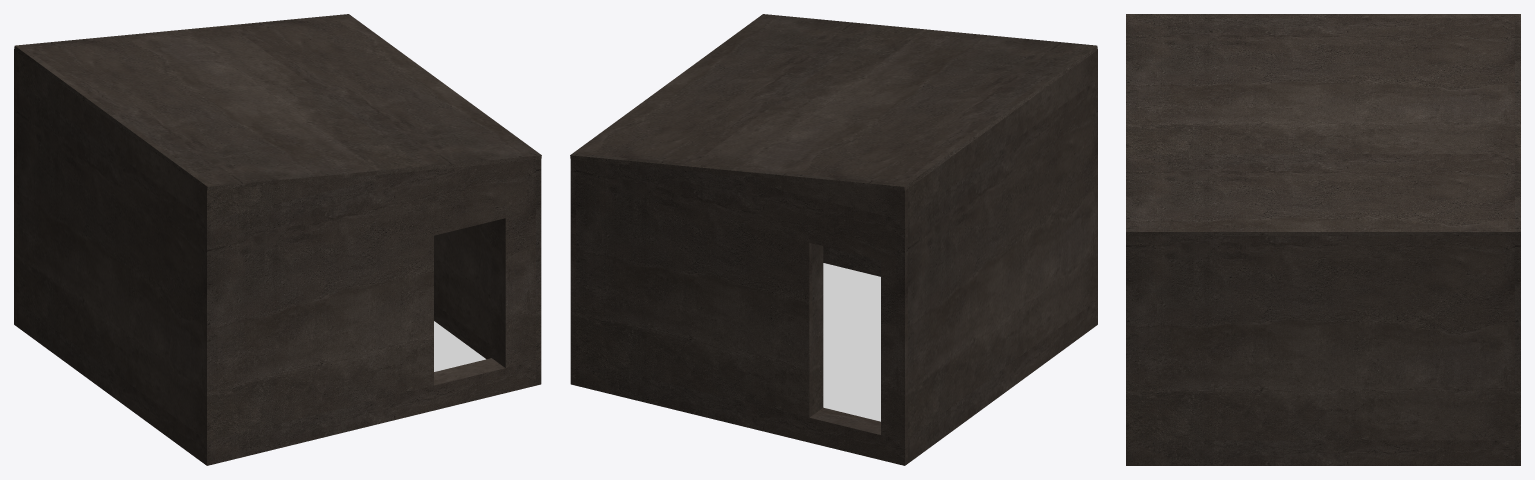
The model's file is lavacrete-200.glb.
The picture shows the model from 3 angles, left to right: view 1: azimuth 30°, elevation 25°; view 2: azimuth 150°, elevation 25°; view 3: azimuth 270°, elevation 25°; orthographic projection. The views are drawn at different scales.
Visible parts, largest first — view 1: G-Object, G-Object.003, G-Object.001, G-Object.002; view 2: G-Object, G-Object.003, G-Object.001, G-Object.002; view 3: G-Object.003, G-Object, G-Object.001.
Part boxes in pixels (x1,y1,x2,y2): G-Object: (14,50,541,440); G-Object.003: (14,14,541,190); G-Object.001: (14,300,541,465); G-Object.002: (434,321,485,371); G-Object: (570,50,1097,440); G-Object.003: (570,14,1097,190); G-Object.001: (570,246,1097,465); G-Object.002: (823,263,880,421); G-Object.003: (1126,14,1520,235); G-Object: (1126,236,1520,440); G-Object.001: (1126,440,1520,465).
Size of the model in its own units: 4.27 by 3.4 by 4.27.
Materials: 2 (1 with a texture image).
